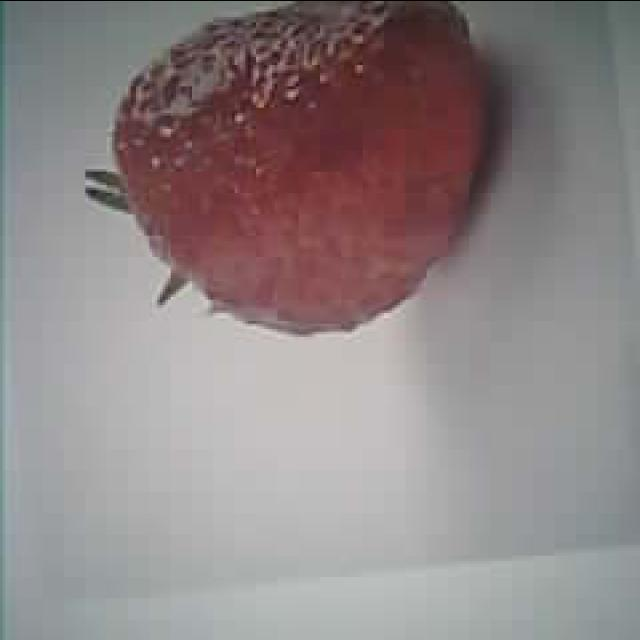strawberry: (112, 0, 480, 338)
